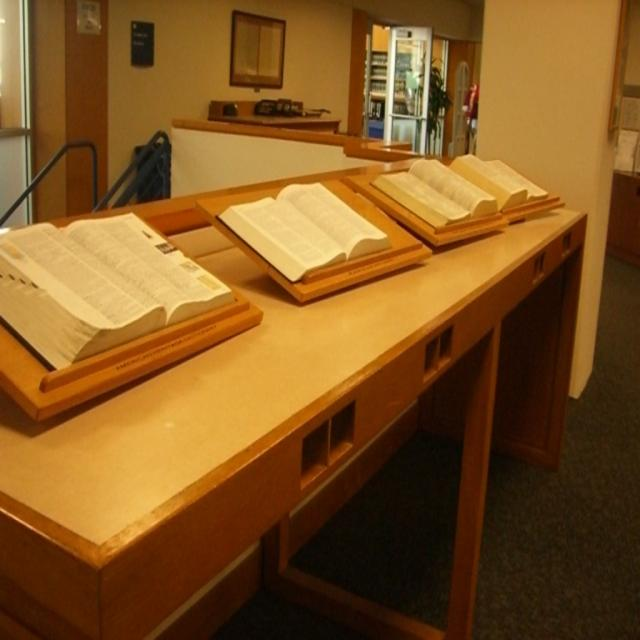desk: (0, 154, 587, 638)
